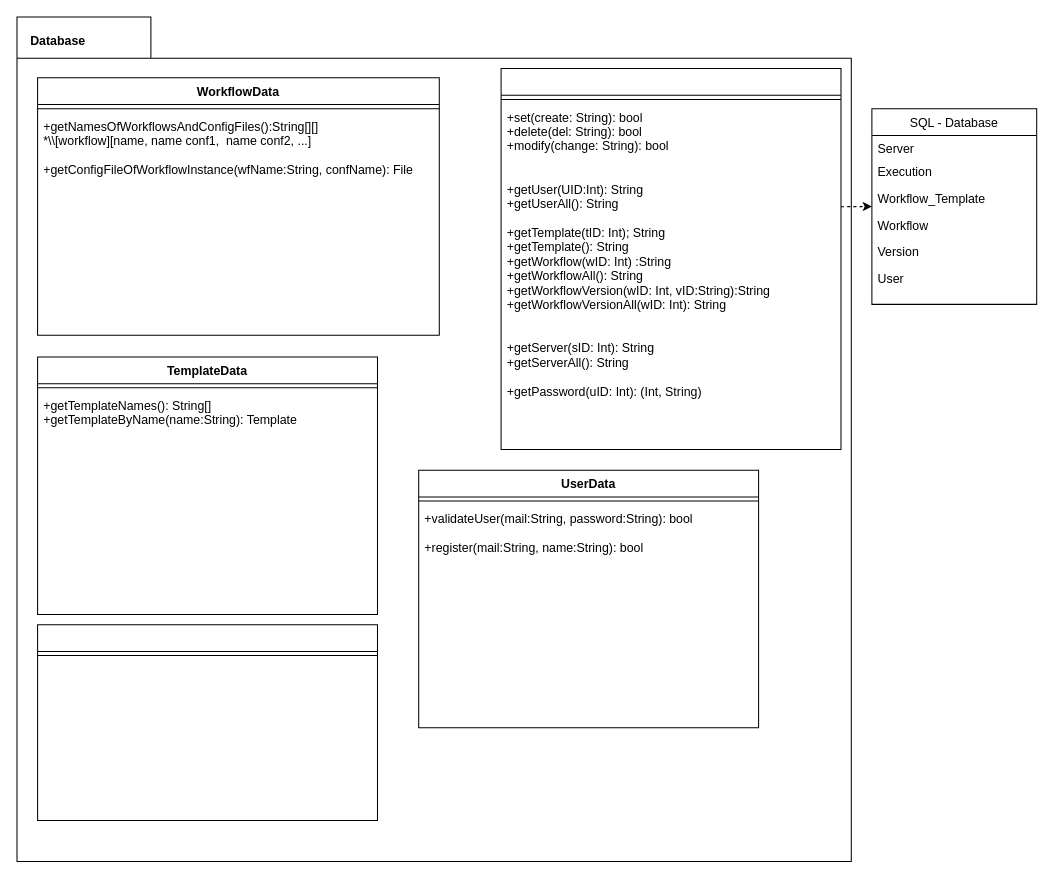
Image size: 1054x879. Some labels were removed from this diagram. Each missing label, with the box of its shape:
DatabaseTable: (500, 67, 841, 450)
ServerData: (37, 624, 377, 820)
